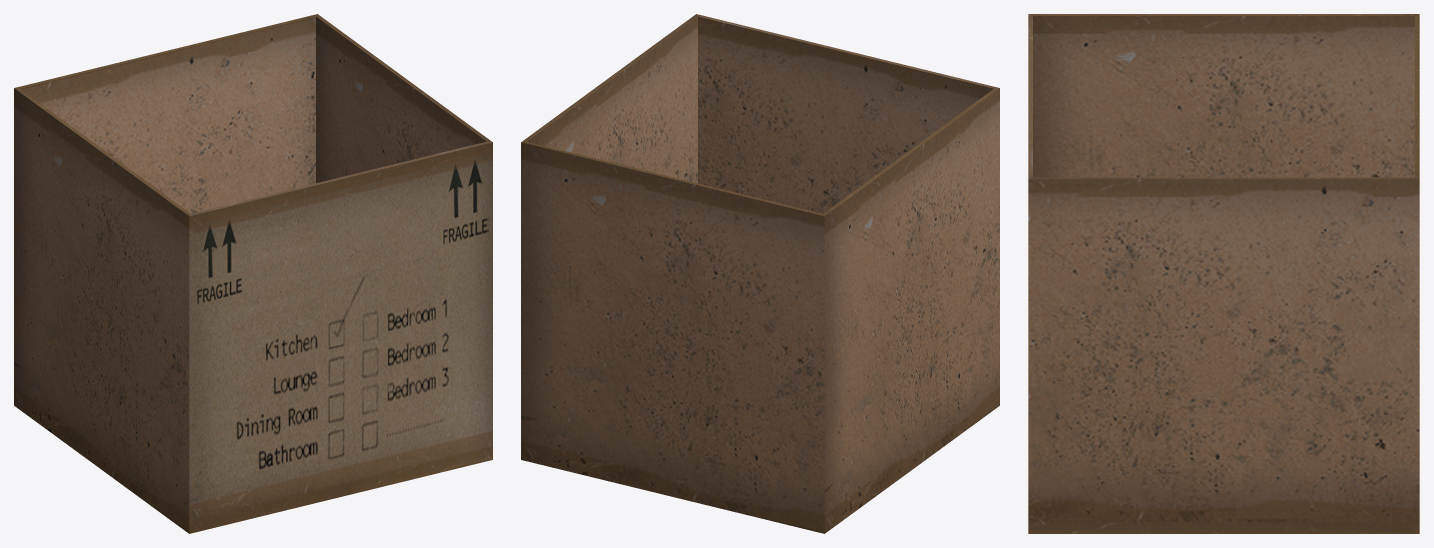
The model's file is CardboardBoxOpen4_SM.fbx.
The picture shows the model from 3 angles, left to right: view 1: azimuth 30°, elevation 25°; view 2: azimuth 150°, elevation 25°; view 3: azimuth 270°, elevation 25°; orthographic projection. The views are drawn at different scales.
Visible parts, largest first — view 1: Box014; view 2: Box014; view 3: Box014.
Part boxes in pixels (x1=…): Box014: x1=14, y1=14, x2=492, y2=533; Box014: x1=521, y1=14, x2=999, y2=533; Box014: x1=1028, y1=14, x2=1419, y2=533.
Bounding box in the file's own units: 69.23 × 69.23 × 69.23.
